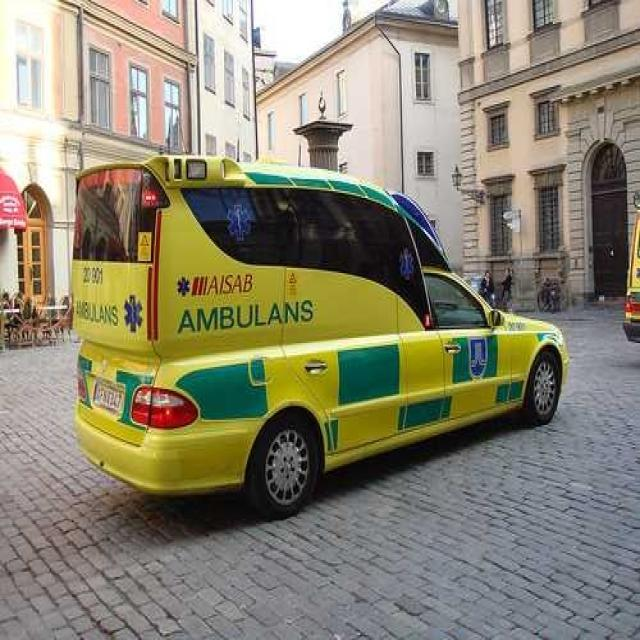ambulance: (50, 127, 588, 550)
